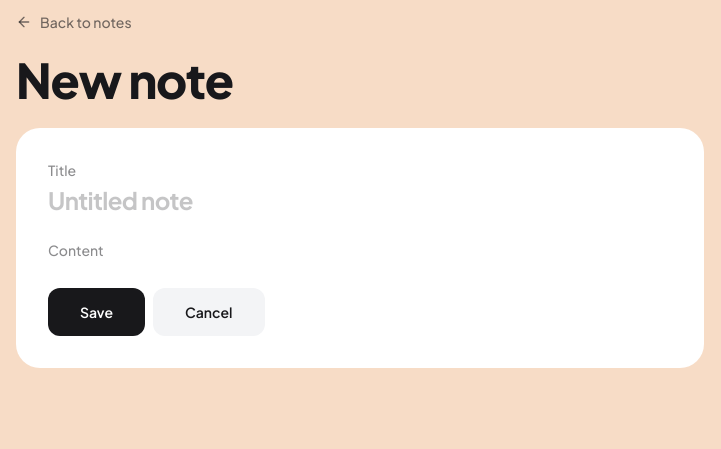
Scenario: keeps what you typed on the page when saving fails
In the field labelled "Title": (360, 200) [48,184,672,216], type "My note"
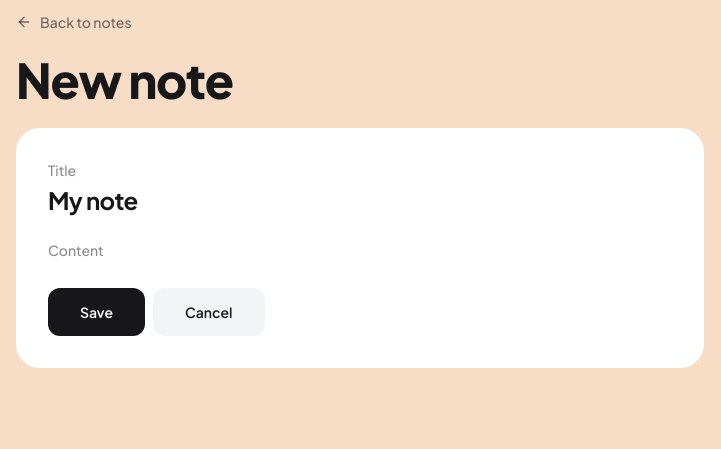
Click the button "Save": click(96, 312) [48,288,145,336]
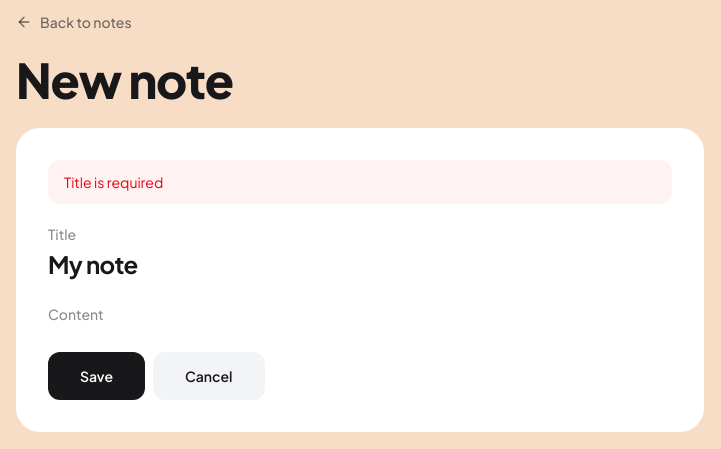
Expected: the message reads "Title is required", [64,173,163,191]
